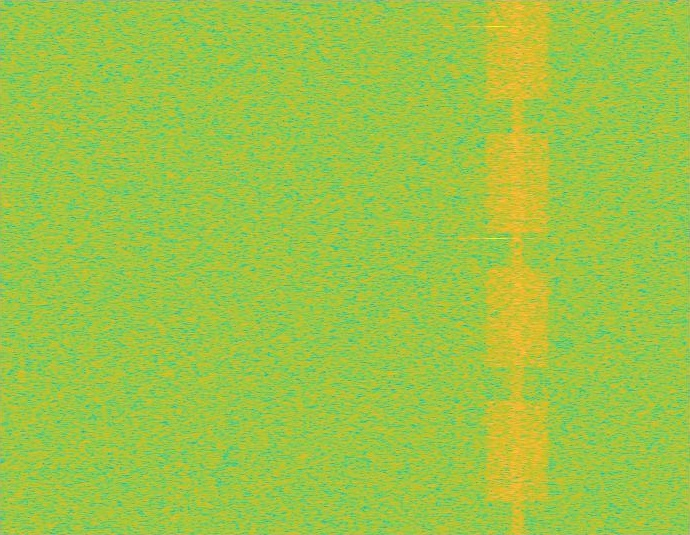5G: (483, 0, 552, 534)
DSSS: (510, 0, 525, 534)
Radar: (489, 0, 503, 534)
